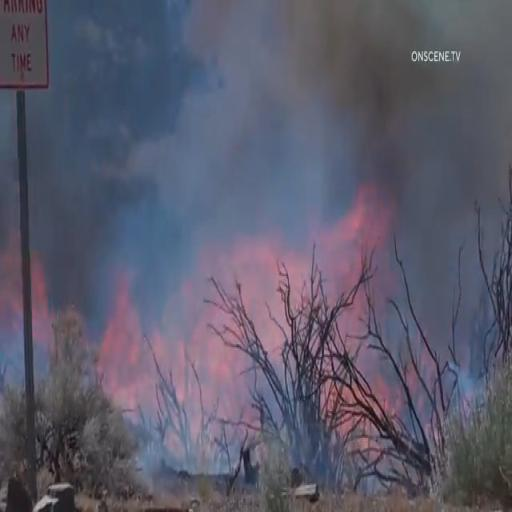fire: (108, 220, 404, 450)
smoke: (168, 0, 398, 205)
